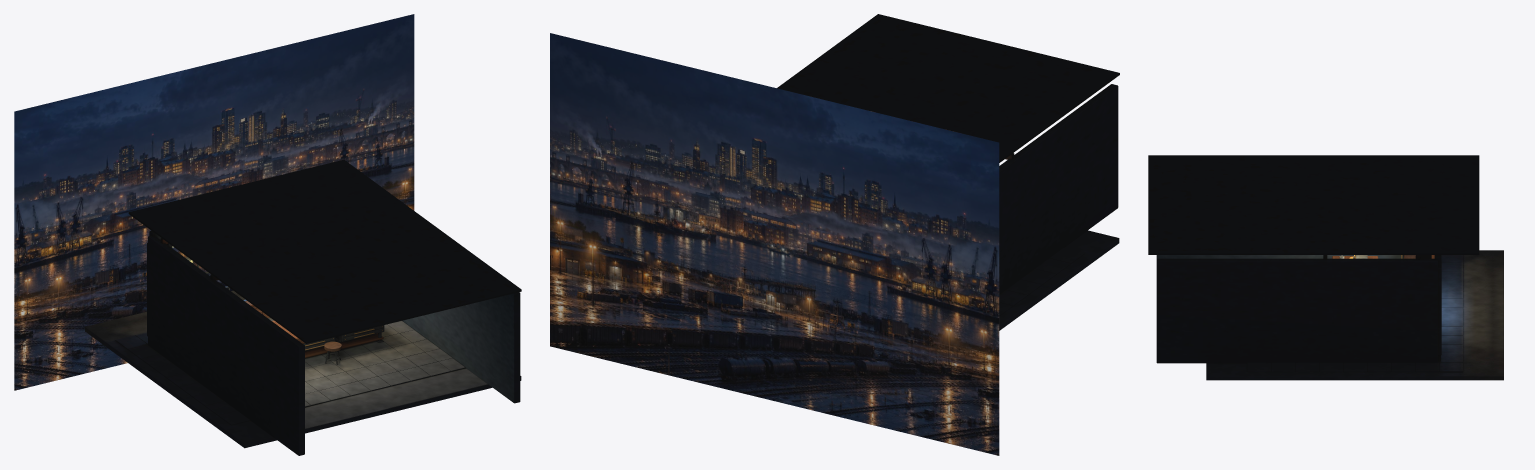
File: after-hours-room.glb
3 views of the same model, side by side, from view 1: azimuth 30°, elevation 25°; view 2: azimuth 150°, elevation 25°; view 3: azimuth 270°, elevation 25° (orthographic). The views are drawn at different scales.
Parts seen in each view (by area): view 1: Architecture, Night and practical lamps, Workshop; view 2: Night and practical lamps, Architecture; view 3: Architecture.
Boxes of the visible parts, x1,y1,x2,y2 form: Architecture: (85,159,521,455); Night and practical lamps: (14,14,414,390); Workshop: (187,258,384,364); Night and practical lamps: (550,33,999,455); Architecture: (777,14,1119,330); Architecture: (1148,155,1503,380).
Size of the model in its own units: 26 by 17.34 by 22.5.
4 materials, 3 textured.
